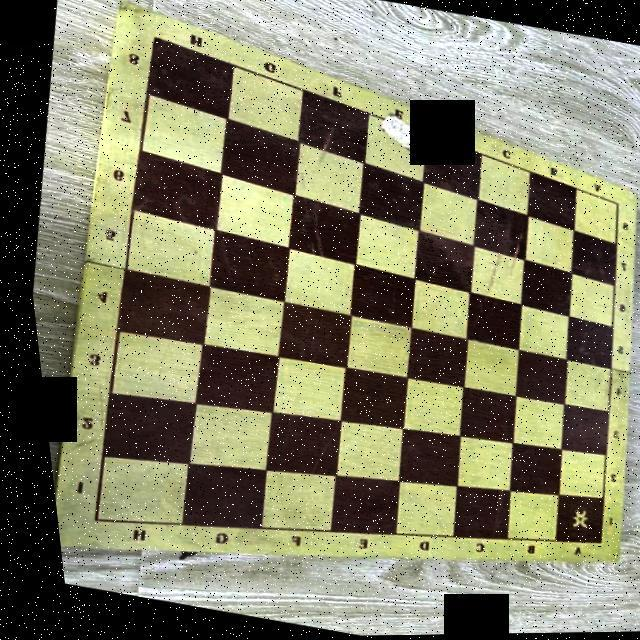chess-table-corners: (138, 27, 169, 50), (70, 510, 97, 532), (578, 536, 596, 551)
